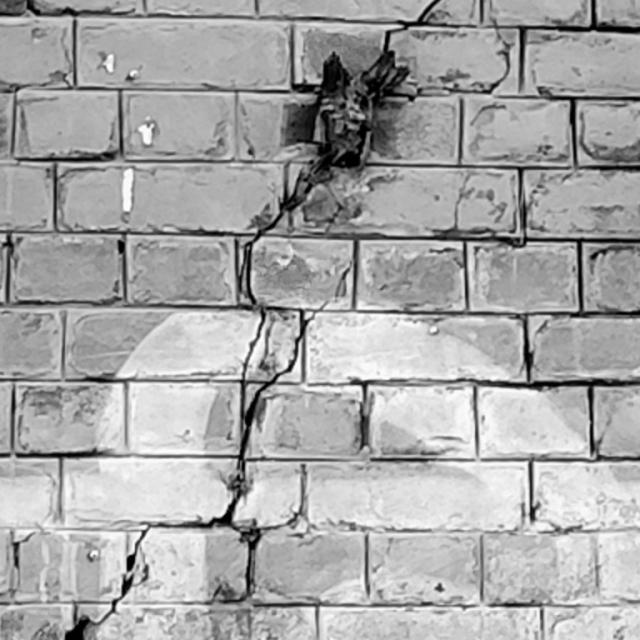crack: (64, 1, 438, 640), (484, 1, 514, 94)
